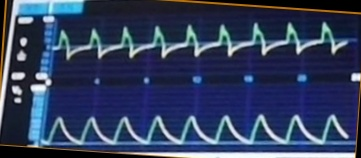Accumulation Flow: (57, 15, 348, 71)
Volume: (51, 98, 347, 148)
